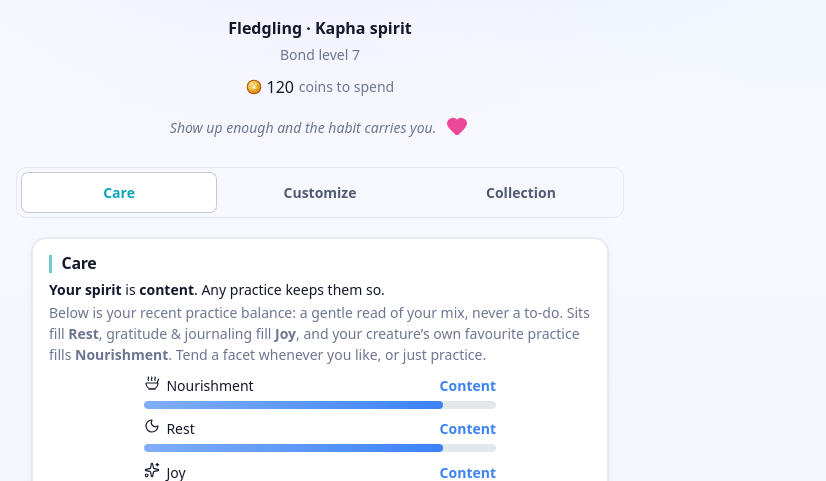
Test: SpiritPage collection gallery › renders retired spirits from the collection
(page scrolled)
Click the button "Collection" at (521, 193), box [423,172,619,214]
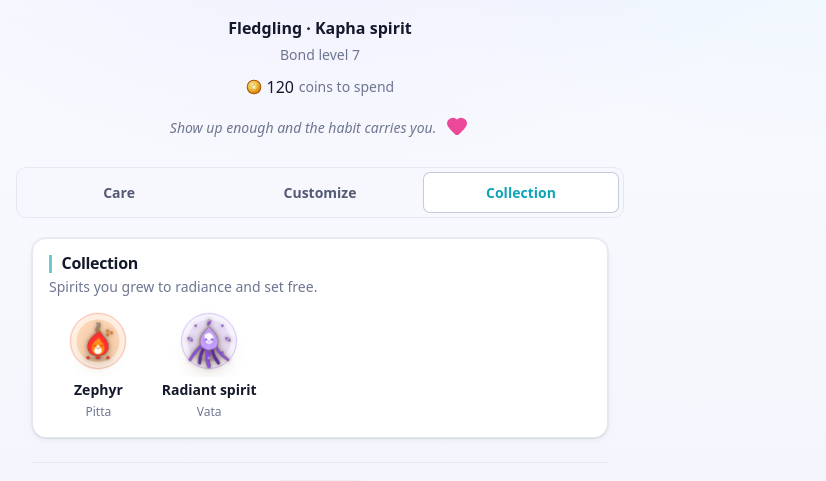
Result: the text "Zephyr" is shown at [74,379,123,400]
Result: the text "Radiant spirit" is shown at [162,379,257,400]
